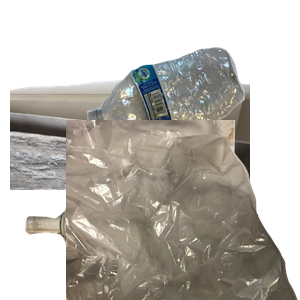glass: (22, 192, 234, 300)
paper: (10, 77, 250, 257)
plastic: (85, 45, 300, 175)
trash: (66, 120, 300, 300)
